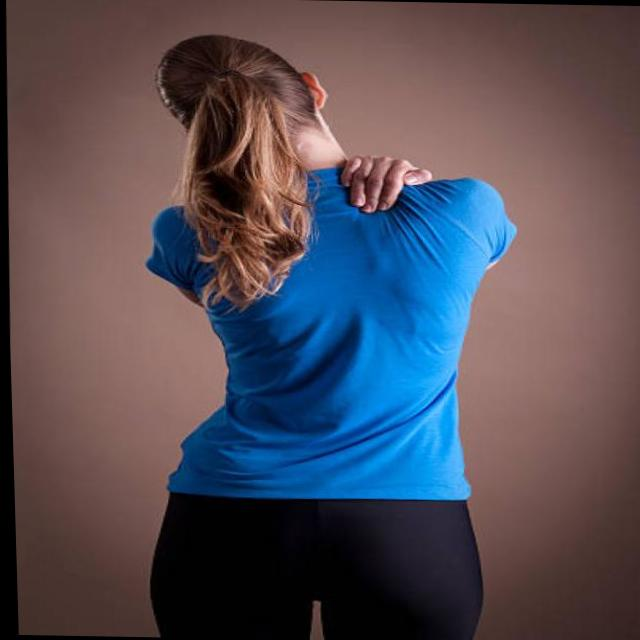no helmet: (138, 34, 333, 148)
